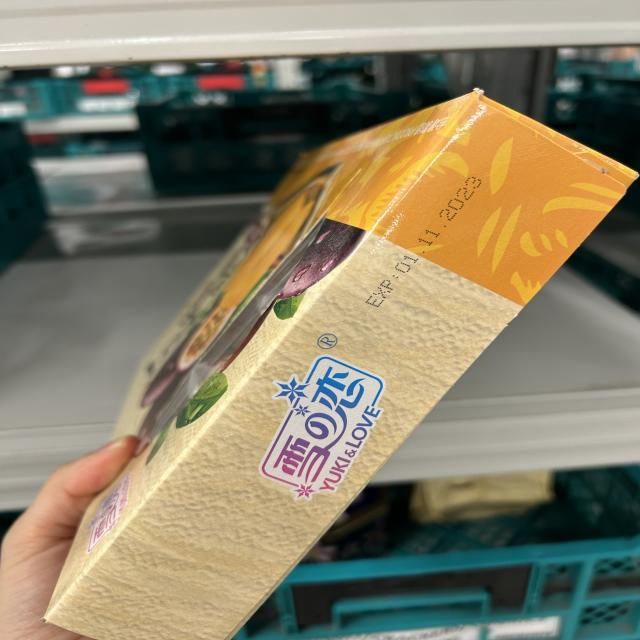object_name: (103, 112, 630, 640)
